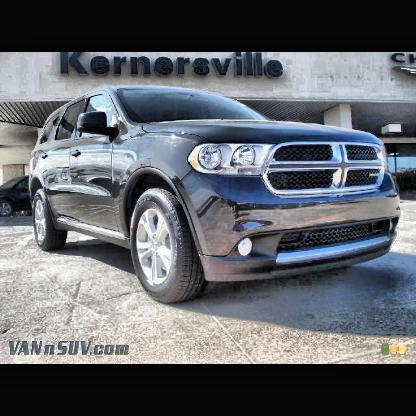Dodge Durango SUV 2012: (29, 86, 402, 306)
